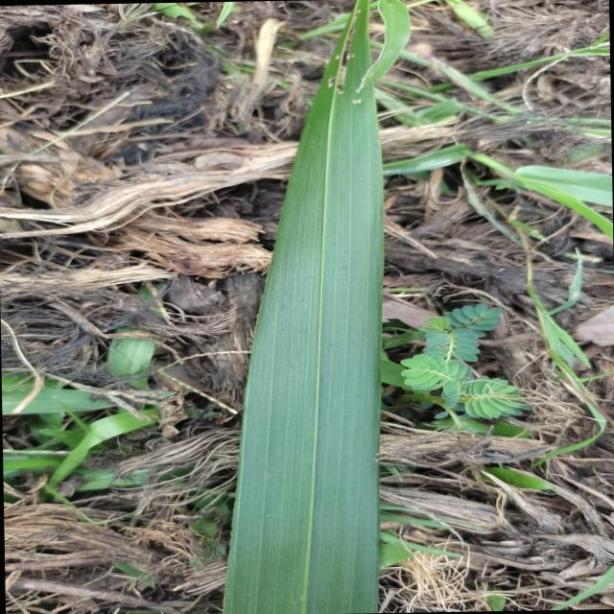Boron: (220, 0, 383, 614)
